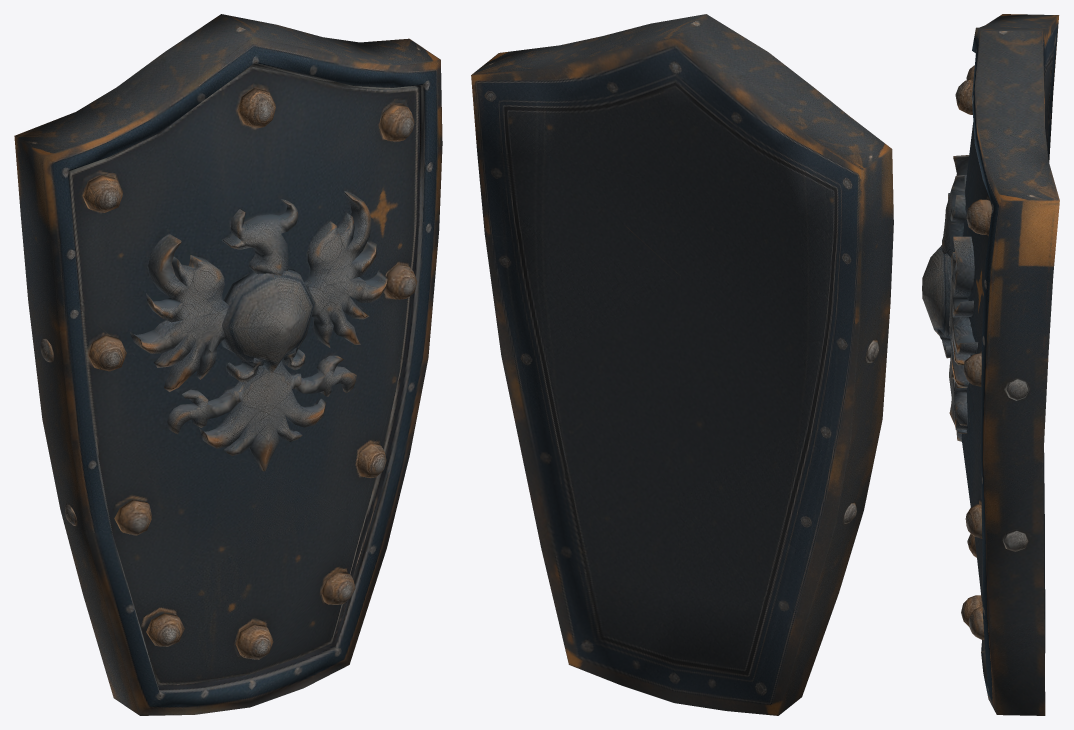
File: iron_shield.glb
3 renders of one model, left to right at view 1: azimuth 30°, elevation 25°; view 2: azimuth 150°, elevation 25°; view 3: azimuth 270°, elevation 25°, orthographic. The views are drawn at different scales.
Size of the model in its own units: 0.5894 by 0.9521 by 0.1836.
1 material, 1 textured.
